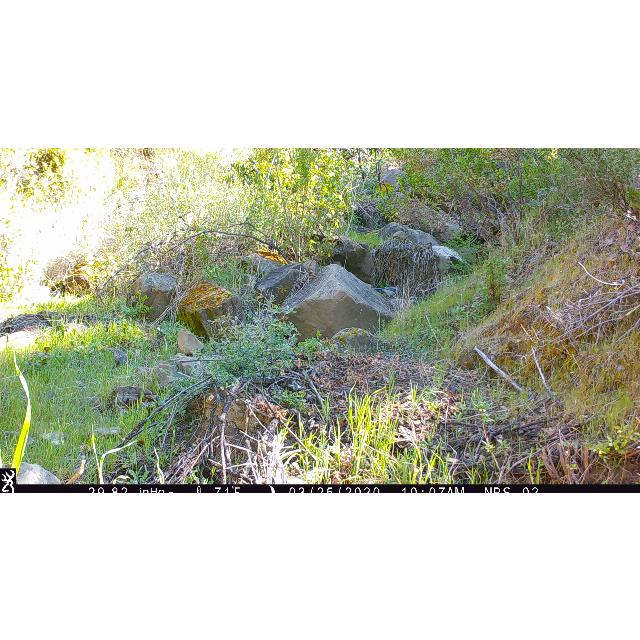animals: (426, 241, 464, 267)
